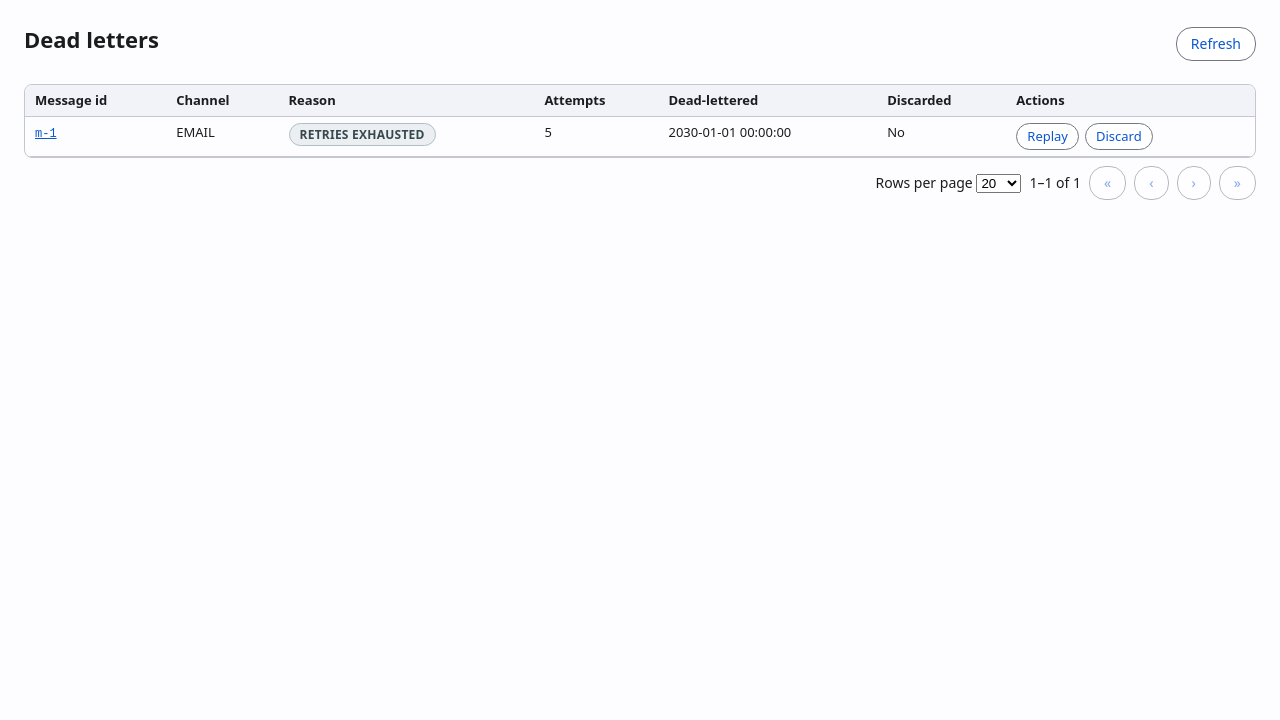
it: dead letters › replay asks for confirmation and then POSTs
Click the button "Replay". click: point(1048, 136)
box: [1016,123,1079,150]
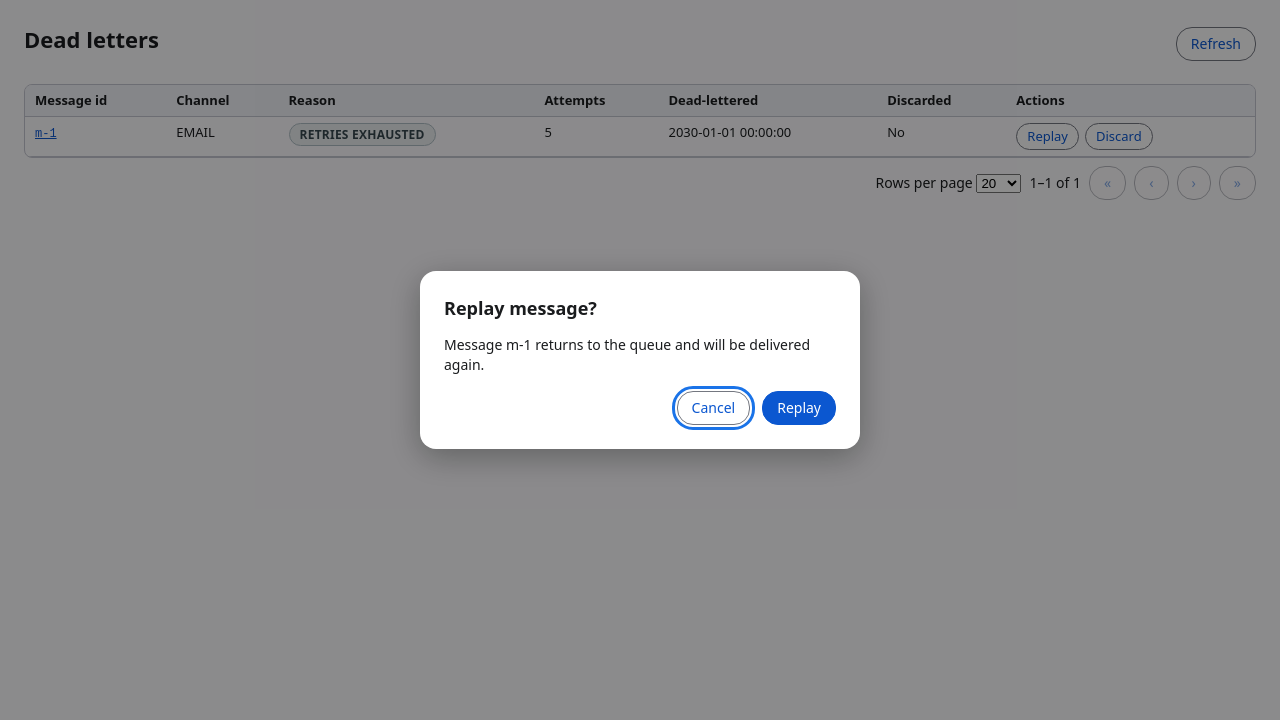
Click the button "Replay". click: point(799, 408)
box: [762,391,836,426]
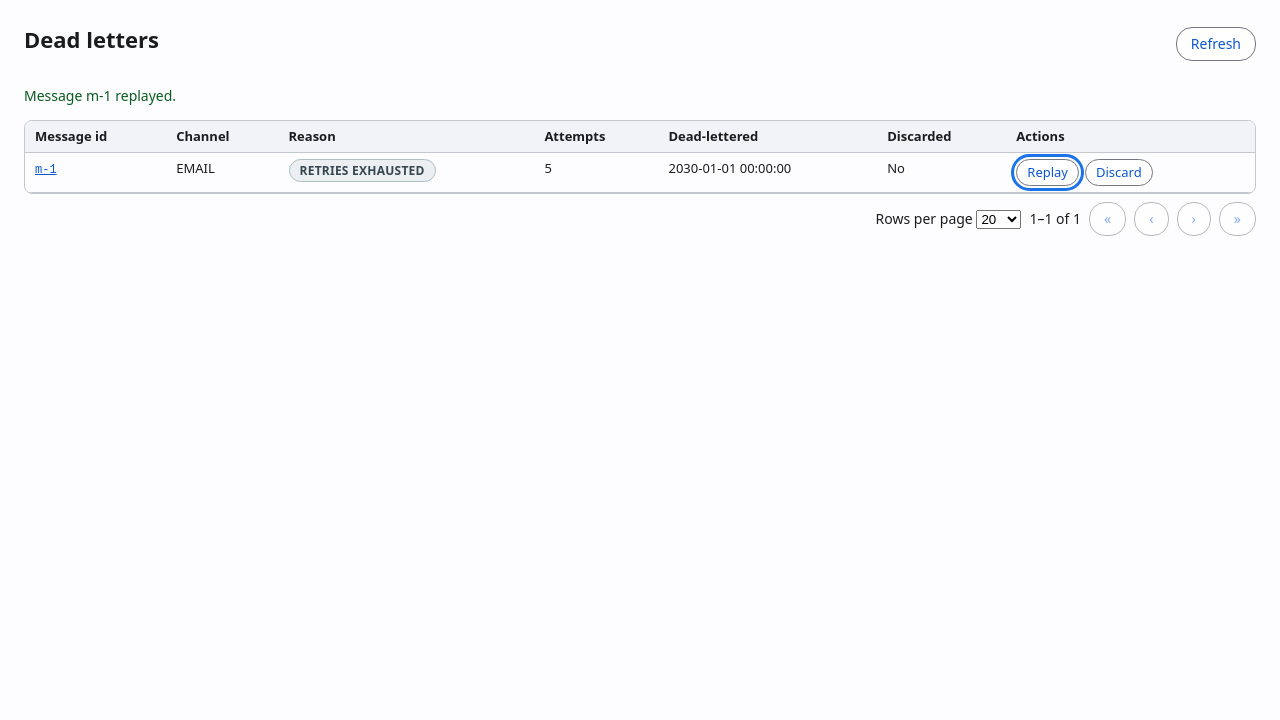
expect the text "Message m-1 replayed." is shown: met, box [24,86,176,105]
